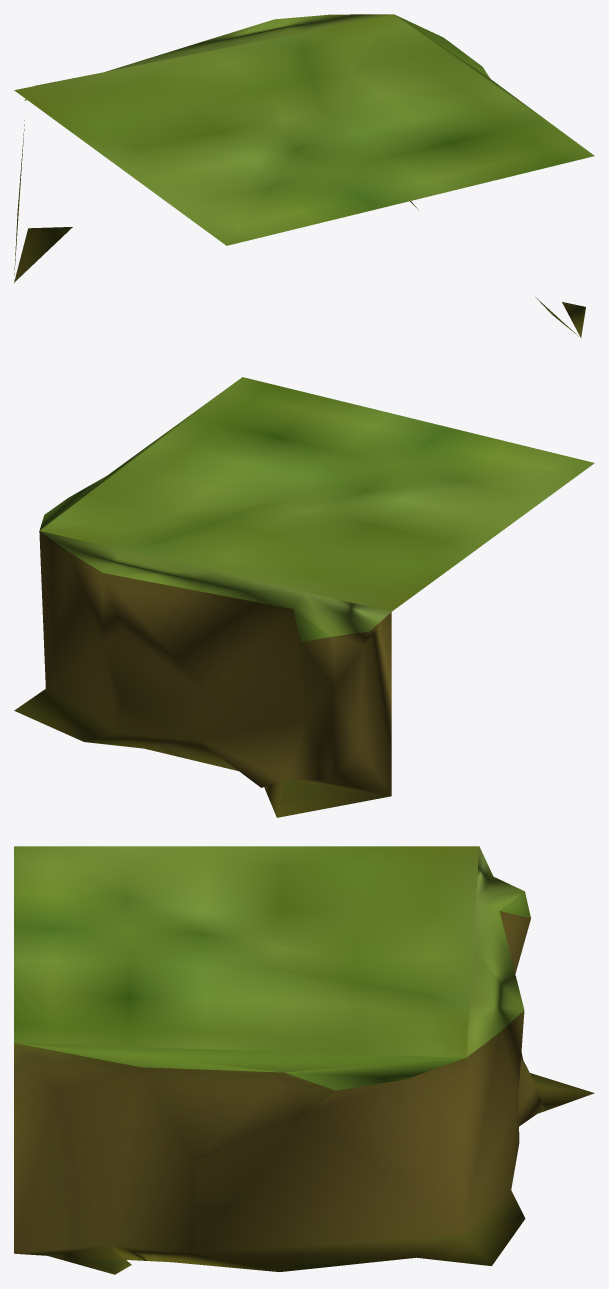
The model's file is atom_one_grass.glb.
3 views of the same model, one above another, from view 1: azimuth 30°, elevation 25°; view 2: azimuth 150°, elevation 25°; view 3: azimuth 270°, elevation 25° (orthographic). The views are drawn at different scales.
Parts seen in each view (by area): view 1: land_one; view 2: land_one; view 3: land_one.
Boxes of the visible parts, x1,y1,x2,y2 form: land_one: [14, 14, 594, 337]; land_one: [14, 377, 594, 817]; land_one: [14, 846, 594, 1274].
Size of the model in its own units: 2.2 by 1.01 by 2.5.
1 material, 1 textured.
